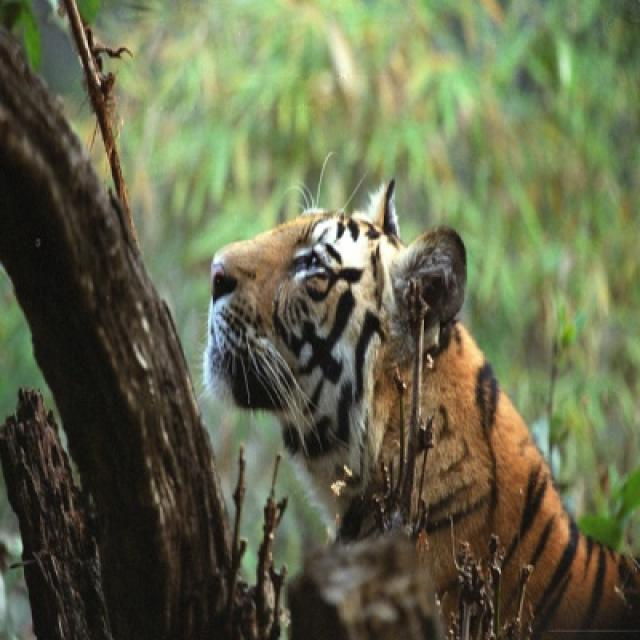Tiger: (193, 182, 638, 638)
